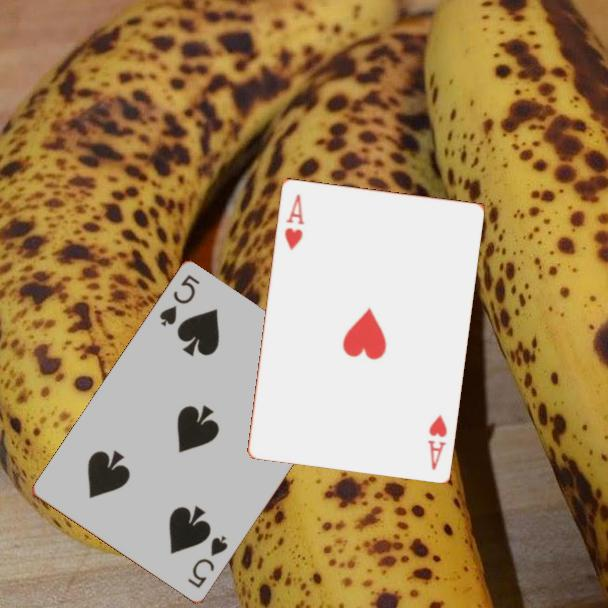h01: (281, 190, 307, 253), (424, 410, 450, 472)
s05: (184, 532, 231, 592), (156, 271, 203, 330)
